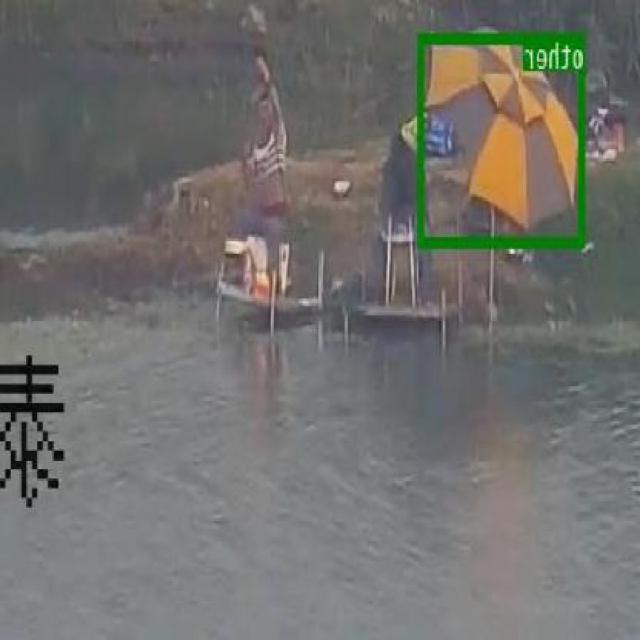other: (420, 32, 586, 246)
